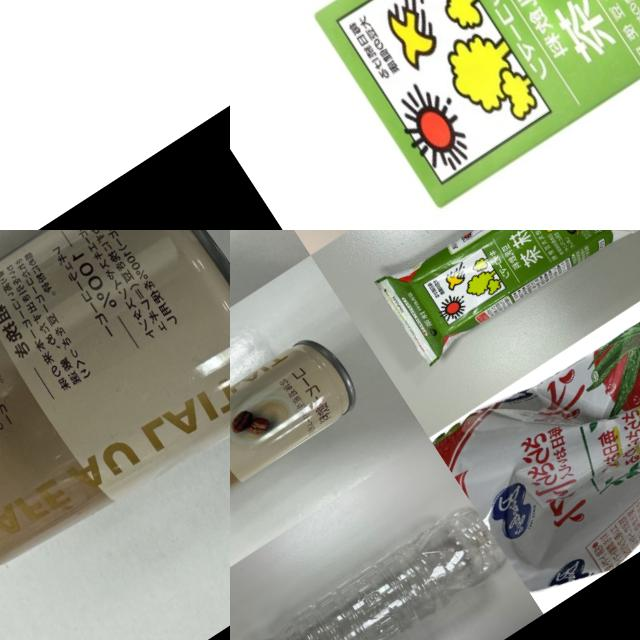Aluminium Foil: (298, 0, 640, 210), (360, 230, 640, 374)
Can: (0, 230, 230, 621), (433, 268, 640, 600), (230, 327, 366, 556)
Transparent Plastic Bottle: (230, 494, 514, 640)
